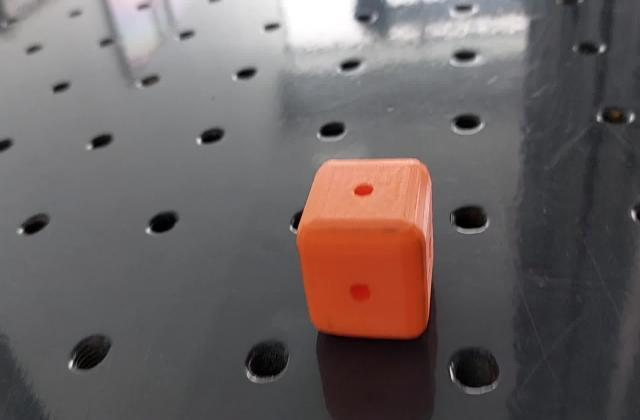cube: (294, 155, 438, 346)
